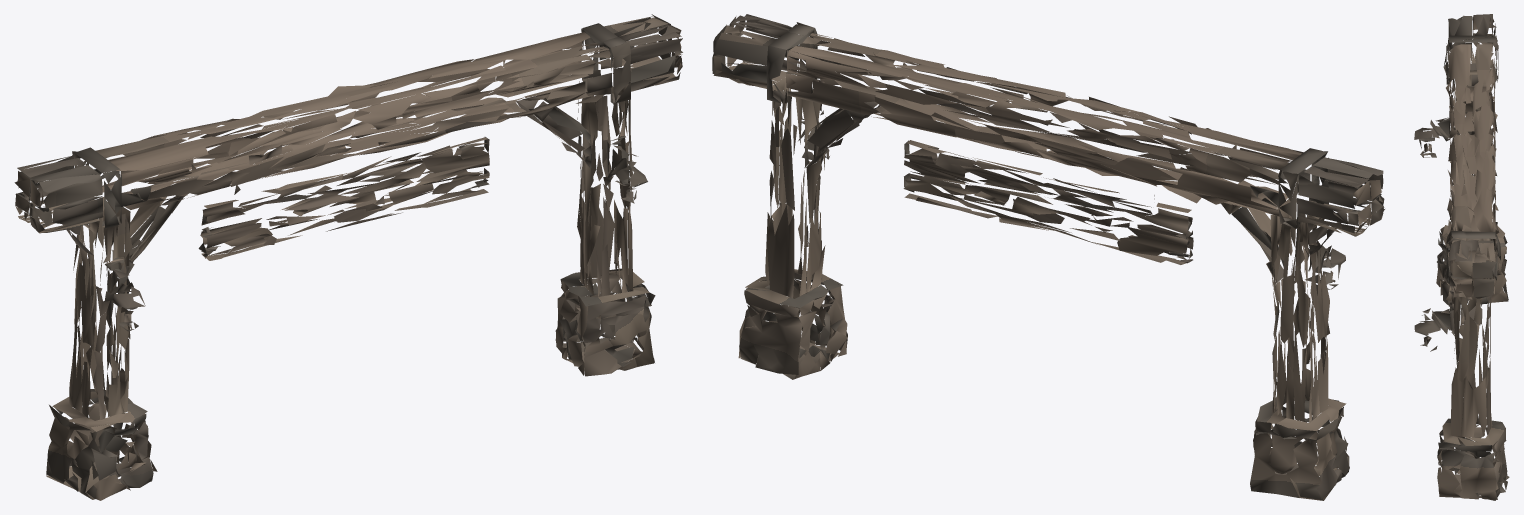
File: frontier_arch.glb
3 renders of one model, left to right at view 1: azimuth 30°, elevation 25°; view 2: azimuth 150°, elevation 25°; view 3: azimuth 270°, elevation 25°, orthographic. The views are drawn at different scales.
Parts seen in each view (by area): view 1: LO.001; view 2: LO.001; view 3: LO.001.
Part boxes in pixels (x1,y1,x2,y2): LO.001: [14, 14, 682, 500]; LO.001: [712, 14, 1384, 500]; LO.001: [1414, 14, 1509, 500].
Bounding box in the file's own units: 18.11 × 8.6 × 2.93.
Materials: 1 (1 with a texture image).
